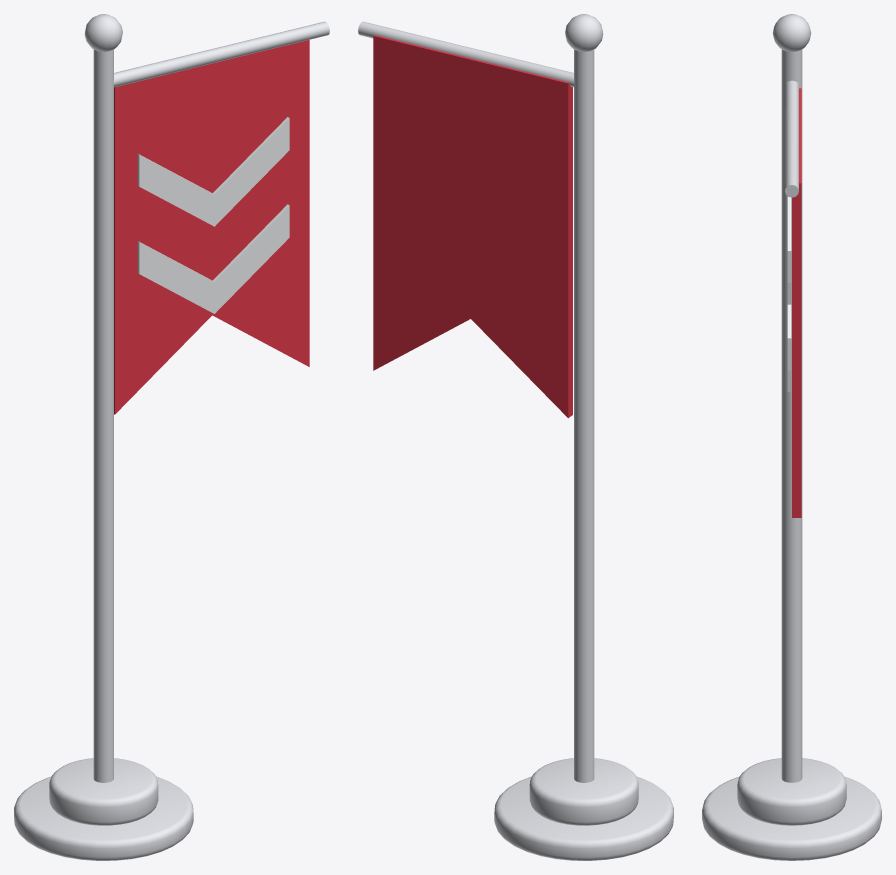
The model's file is SD_Flag_Red.fbx.
3 renders of one model, left to right at view 1: azimuth 30°, elevation 25°; view 2: azimuth 150°, elevation 25°; view 3: azimuth 270°, elevation 25°, orthographic.
Parts seen in each view (by area): view 1: Flag_Red; view 2: Flag_Red; view 3: Flag_Red.
Part boxes in pixels (left/top/right/bottom): Flag_Red: left=14, top=14, right=329, bottom=860; Flag_Red: left=358, top=14, right=673, bottom=860; Flag_Red: left=702, top=14, right=881, bottom=860.
Size of the model in its own units: 1.08 by 2.78 by 0.56.
